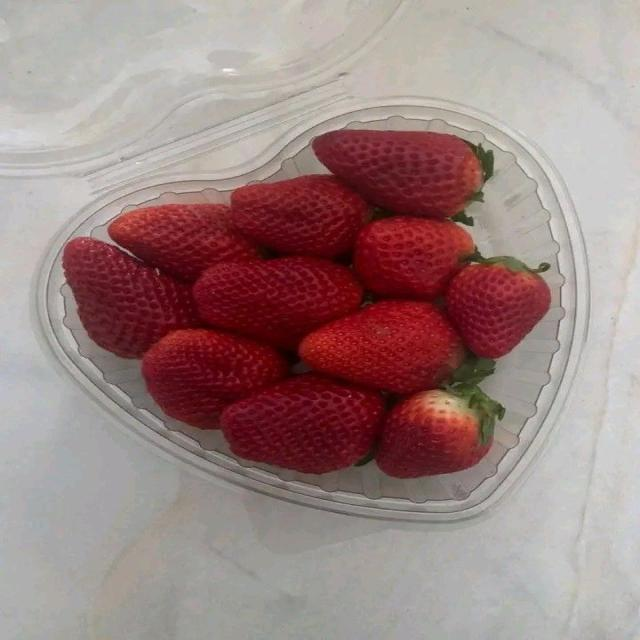strawberry: (63, 238, 201, 357), (222, 374, 382, 473), (312, 130, 492, 217), (193, 257, 362, 348), (300, 301, 463, 393), (142, 329, 287, 428), (376, 385, 503, 477), (109, 204, 259, 281), (232, 175, 369, 257), (446, 257, 551, 358), (354, 217, 474, 299)
